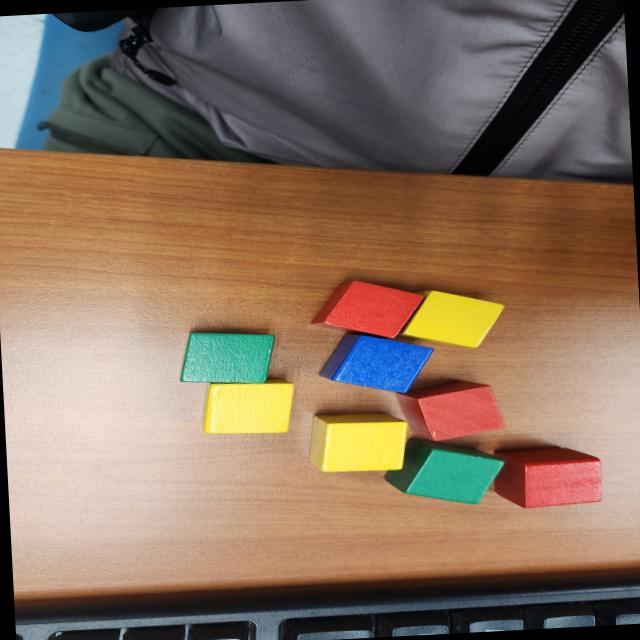blue: (316, 328, 437, 398)
green: (382, 432, 508, 510), (177, 327, 281, 389)
red: (310, 275, 428, 343), (395, 377, 509, 444), (490, 444, 604, 510)
yellow: (398, 287, 510, 354), (312, 410, 410, 475), (200, 378, 300, 438)
